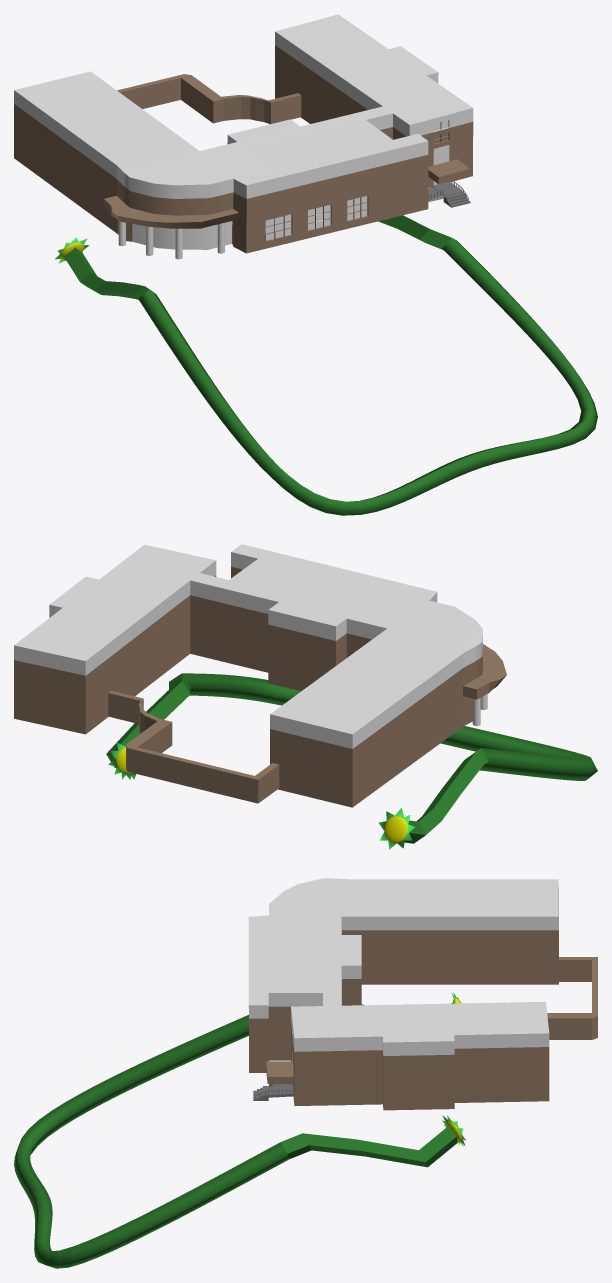
File: ODU_Lions_Child_Study_Center (Overgrowth).fbx
3 renders of one model, top to bottom at view 1: azimuth 30°, elevation 25°; view 2: azimuth 150°, elevation 25°; view 3: azimuth 270°, elevation 25°, orthographic. The views are drawn at different scales.
Parts seen in each view (by area): view 1: Poles4, Leaves24, pCube4; view 2: Poles4, Leaves24; view 3: Poles4, Leaves24, pCube4.
Part boxes in pixels (x1,y1,x2,y2): Poles4: (14, 14, 473, 259); Leaves24: (55, 215, 597, 515); pCube4: (428, 180, 470, 207); Poles4: (14, 544, 506, 807); Leaves24: (106, 673, 597, 849); Poles4: (248, 878, 597, 1110); Leaves24: (14, 992, 465, 1268); pCube4: (253, 1084, 293, 1100).
Bounding box in the file's own units: 5.51 × 3.66 × 7.8.
